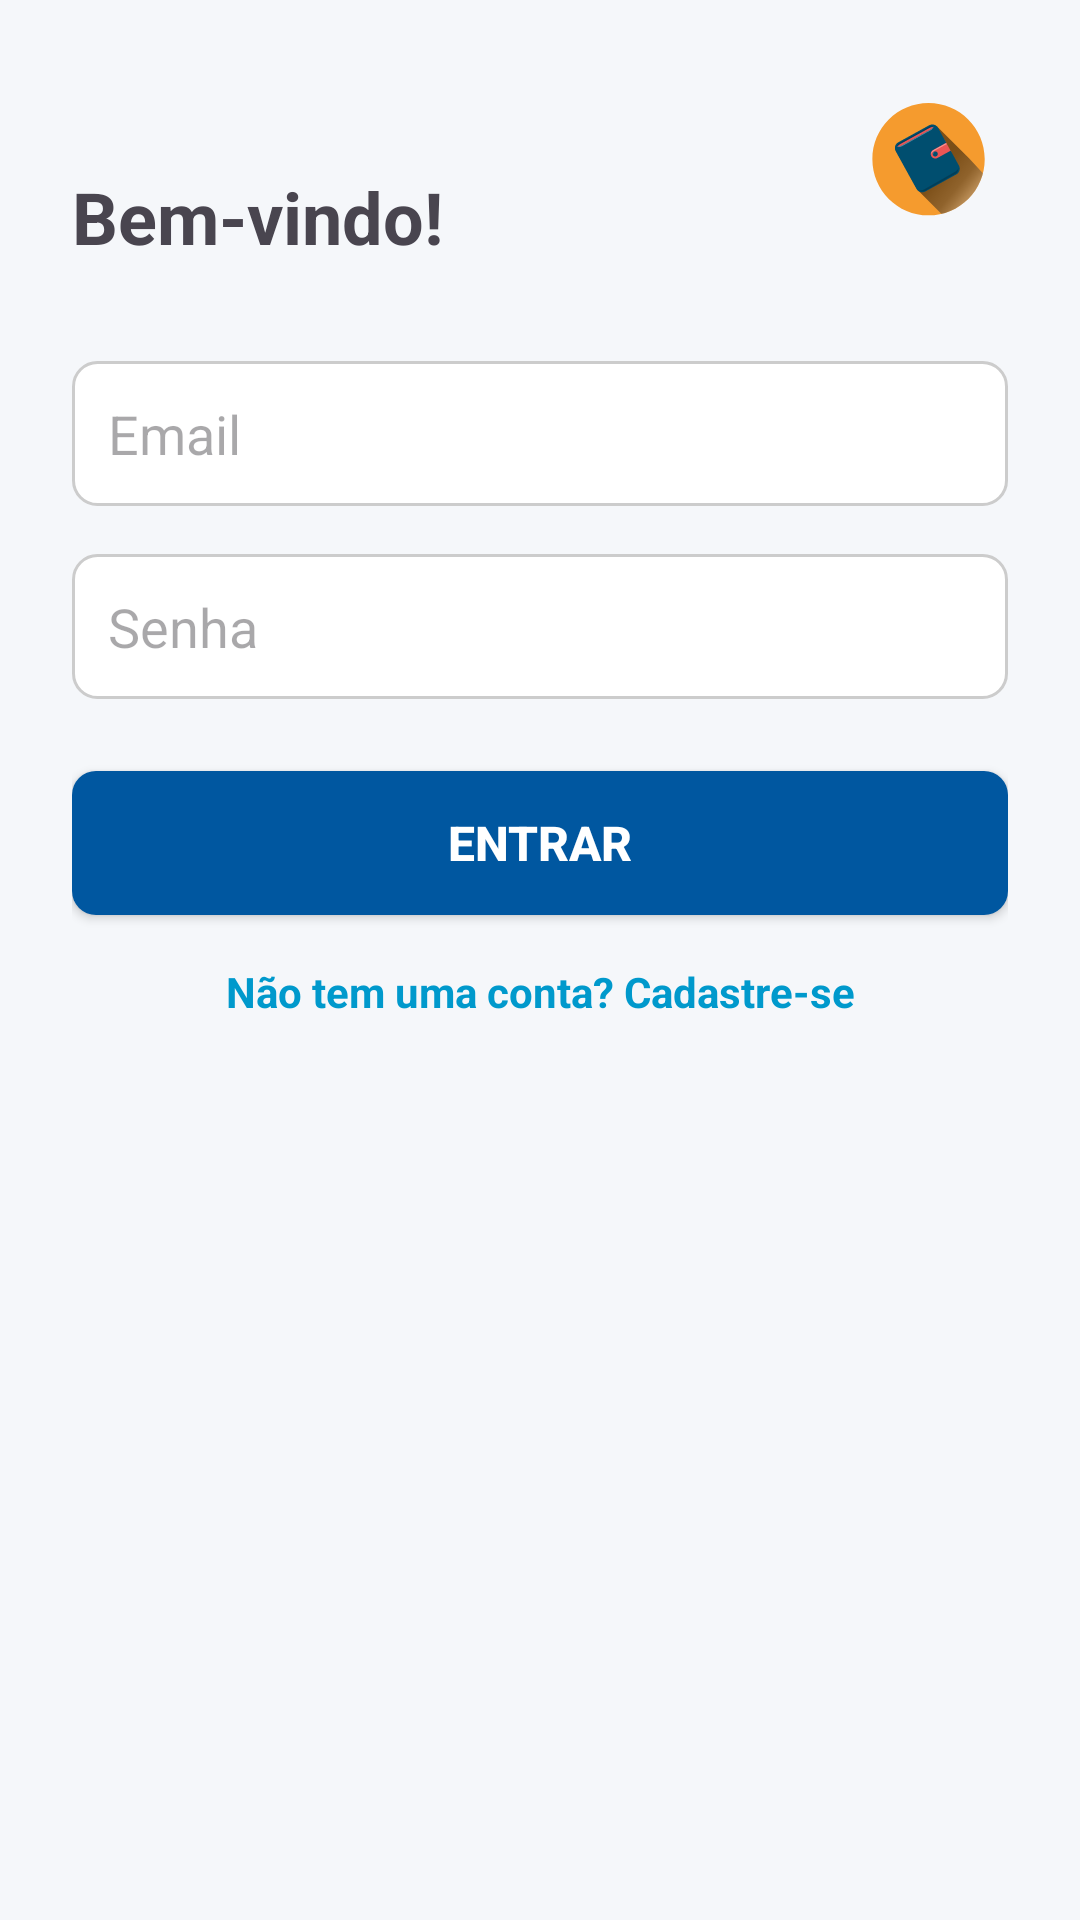

Named icons in this screenshot (1080 × 1920) and their bounding boxes, (x1, y1, x2, y2):
wallet: (872, 103, 985, 216)
